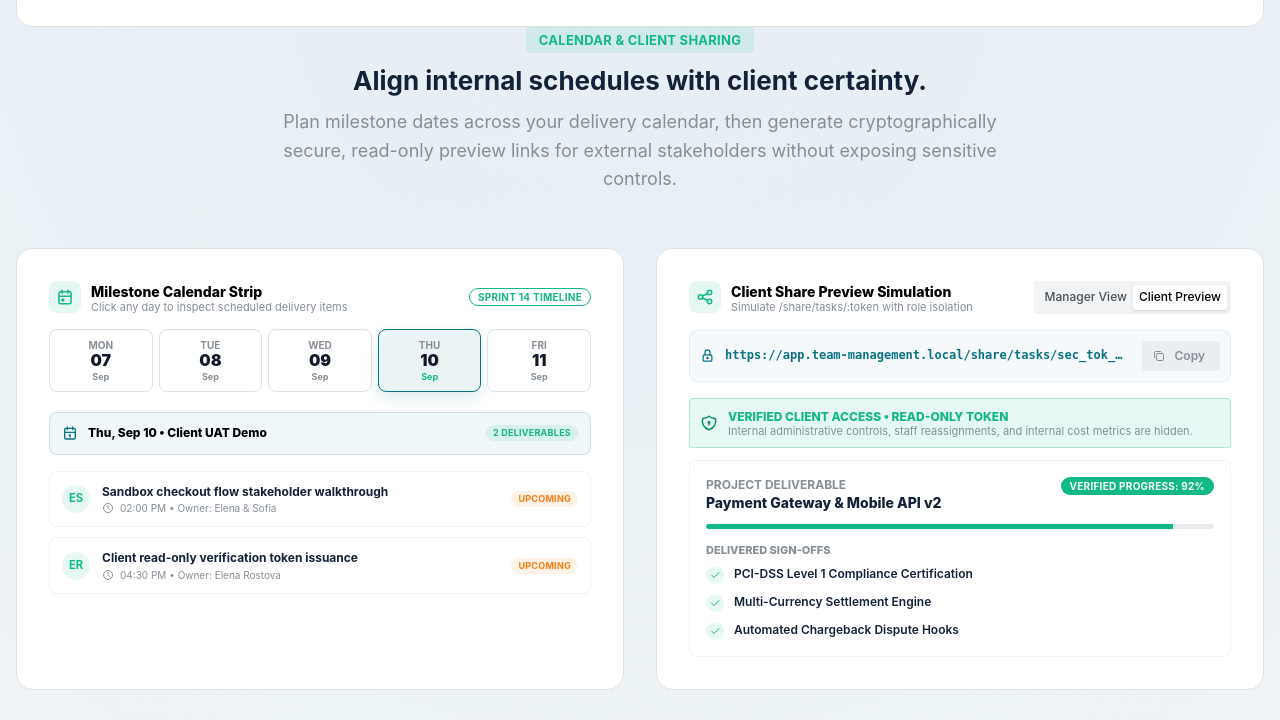
Scenario: AuthLandingPage Showcase › interacts with the milestone calendar strip and client share preview
(page scrolled)
Click the button with aria-label "select mon sep 07" at (101, 360), box 49,329 -> 153,392
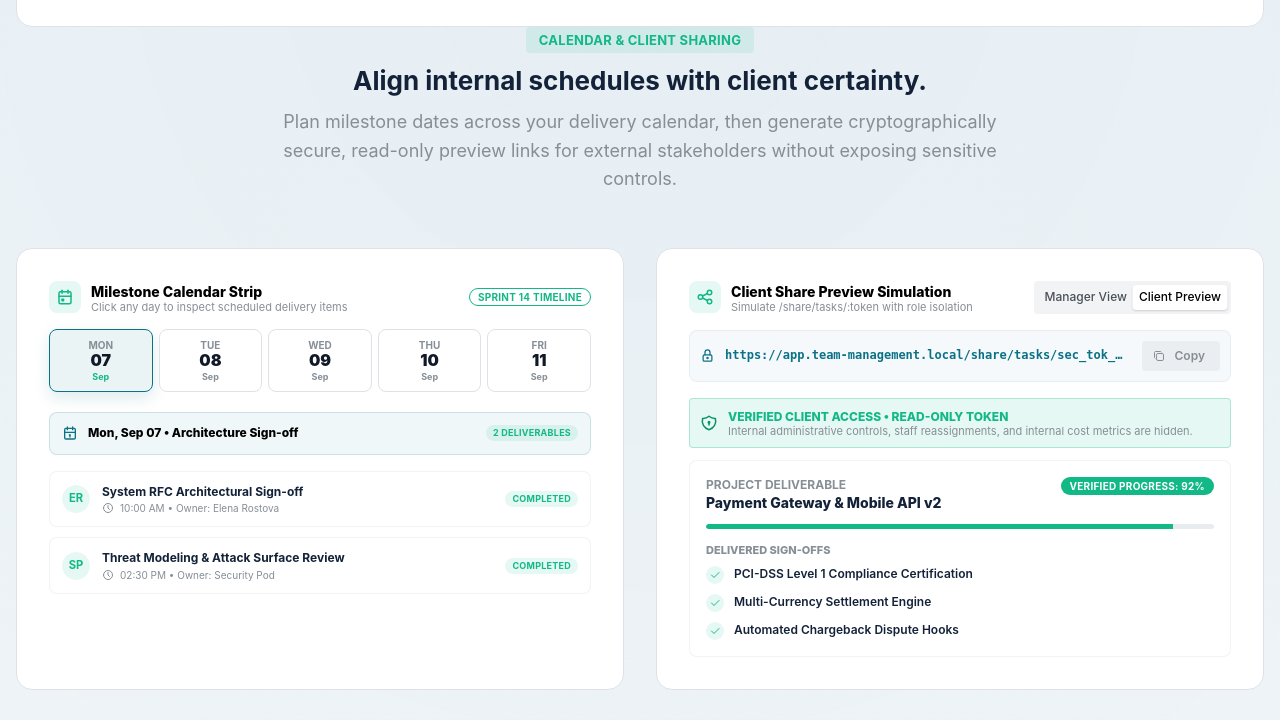
expect the text "Mon, Sep 07 • Architecture Sign-off" is shown: met, box 88,425 -> 298,442
expect the text "System RFC Architectural Sign-off" is shown: met, box 102,484 -> 303,500
Note: Toggle to Manager View in Client Share Preview
Click the radio button labelled "Manager View" at (1086, 298), box 1038,285 -> 1133,310
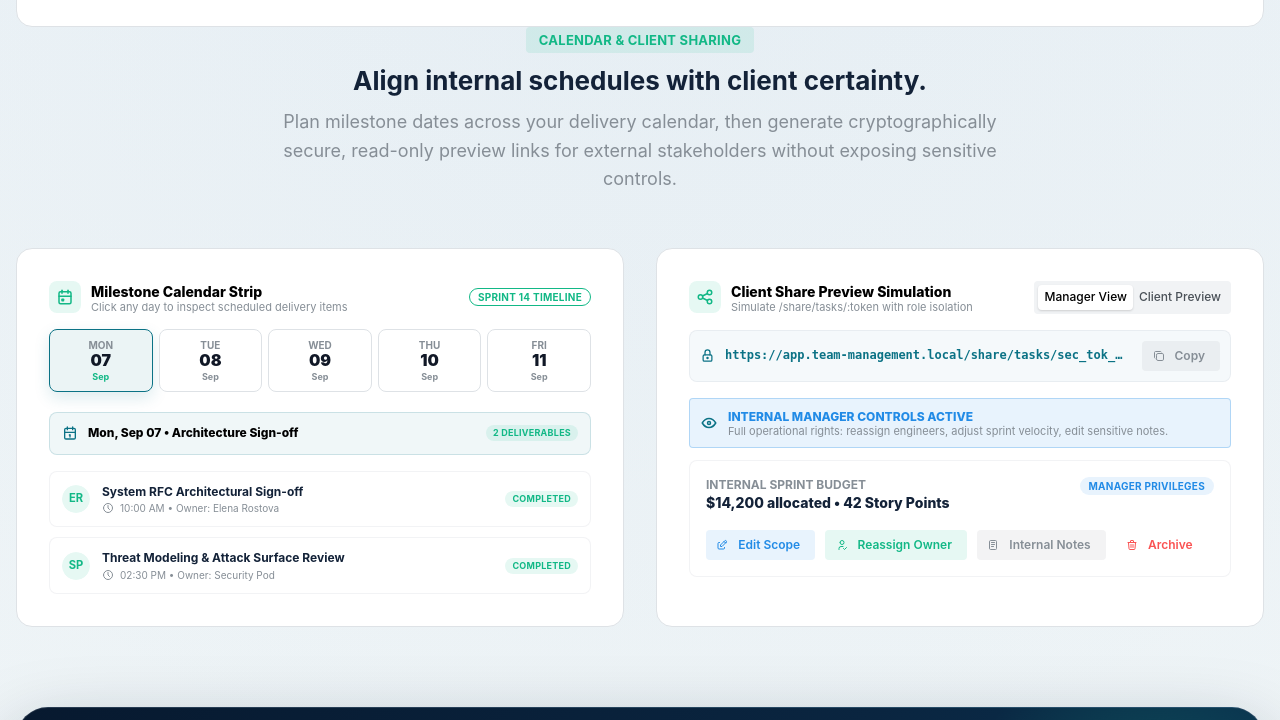
expect the text "INTERNAL MANAGER CONTROLS ACTIVE" is shown: met, box 728,409 -> 973,424
expect the button "Edit Scope" is shown: met, box 706,530 -> 815,560
expect the button "Reassign Owner" is shown: met, box 825,530 -> 967,560
Note: Toggle back to Client Preview
Click the radio button labelled "Client Preview" at (1180, 298), box 1133,285 -> 1227,310
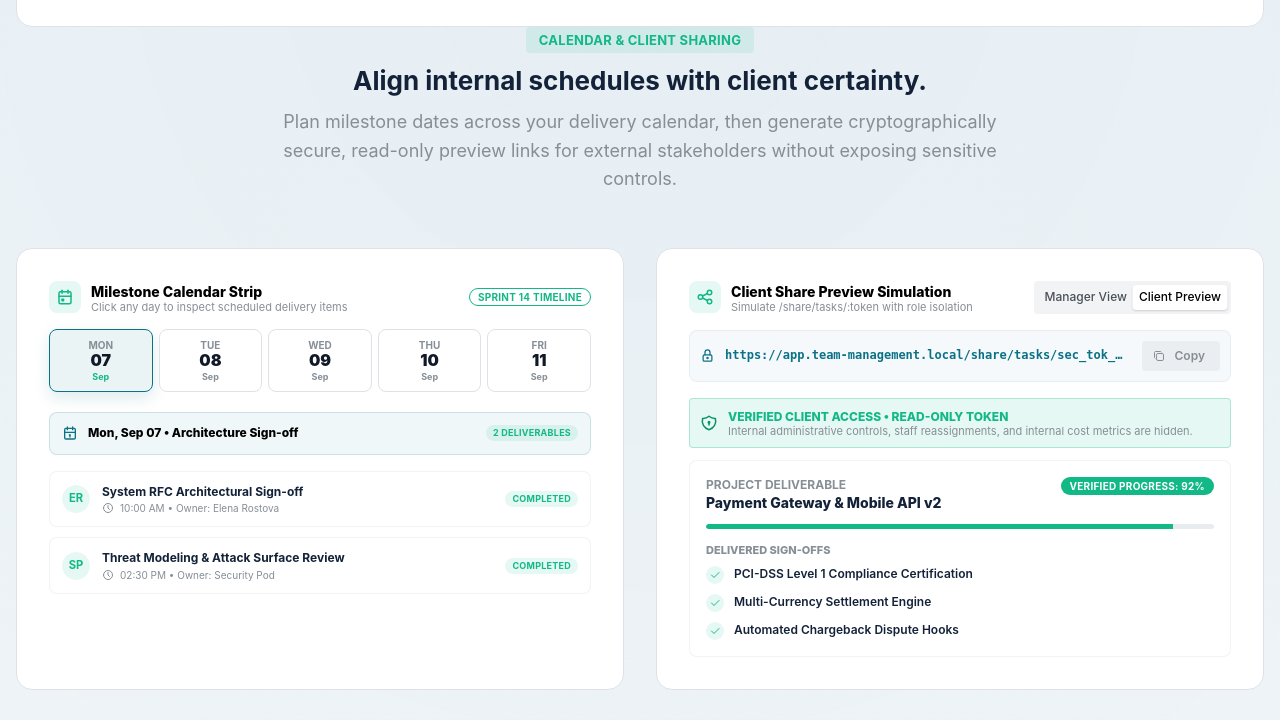
expect the text "VERIFIED CLIENT ACCESS • READ-ONLY TOKEN" is shown: met, box 728,409 -> 1008,424
expect the button "Edit Scope" is gone: met
